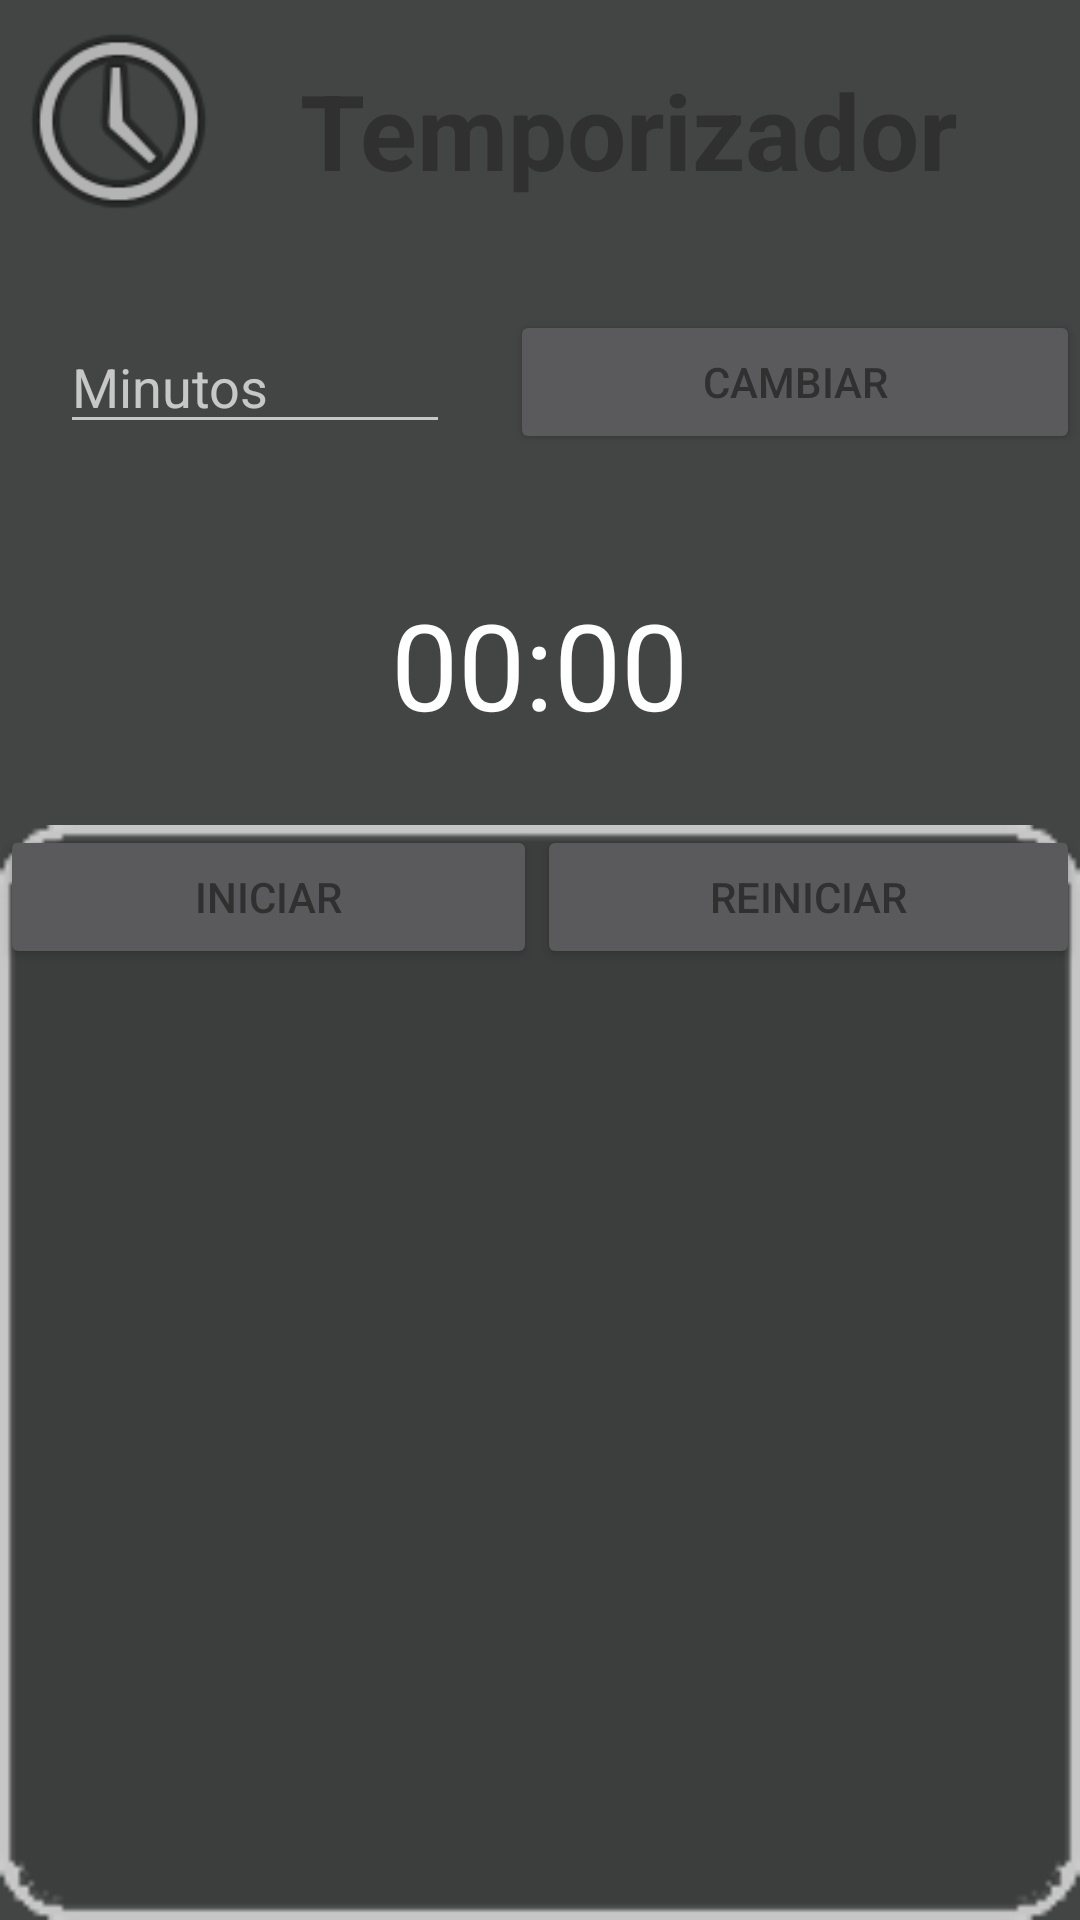

Screen size 1080x1920. Icon name, then its box in pixels as (x1, y1, x2, y2):
recent history: (33, 36, 204, 207)
